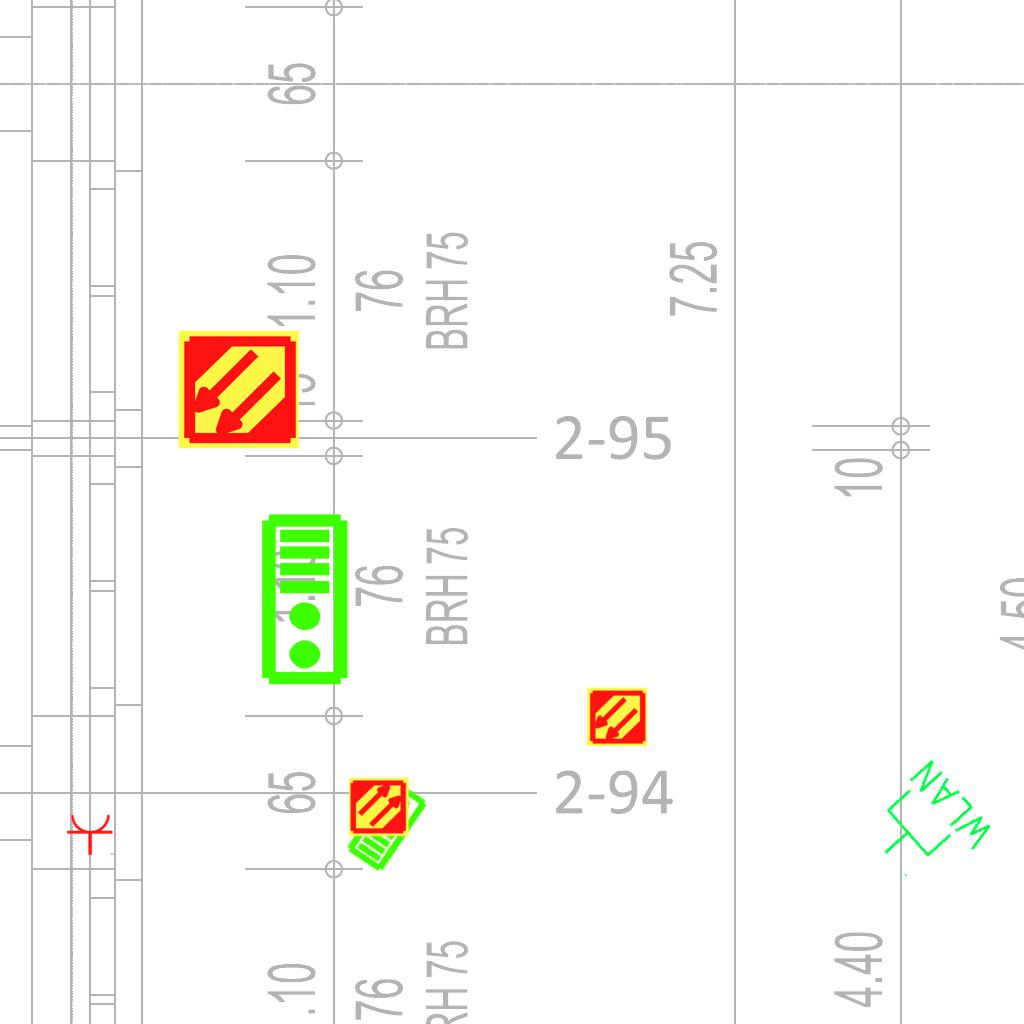ASR_Ansaugrauchmelder: (176, 327, 301, 452), (586, 686, 648, 748), (348, 776, 410, 838)
Gegensprechanlage_mit_Video: (259, 512, 354, 688), (342, 775, 431, 875)
Schukosteckdose_einfach: (66, 813, 116, 856)
WLAN: (854, 753, 1002, 902)
